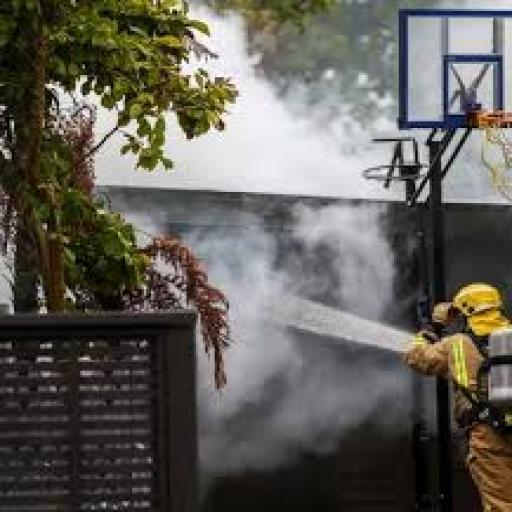smoke: (78, 14, 410, 196)
